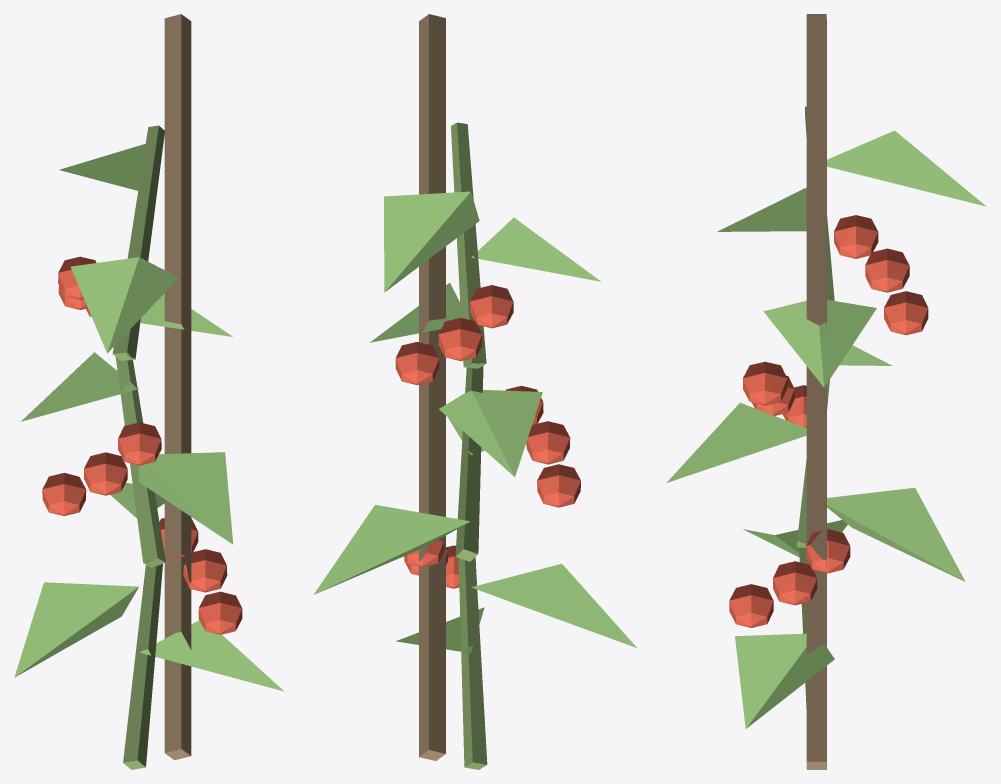
The model's file is field_tomato.glb.
3 views of the same model, side by side, from view 1: azimuth 30°, elevation 25°; view 2: azimuth 150°, elevation 25°; view 3: azimuth 270°, elevation 25° (orthographic).
Visible parts, largest first — view 1: Stake, Leaf#2, Leaf#7, Leaf#4, Stem, Leaf, Stem#3, Stem#2, Leaf#5, Leaf#8, Fruit#3, Fruit#4 (+6 smaller); view 2: Stake, Leaf#8, Leaf#3, Leaf#5, Leaf#2, Stem, Stem#3, Leaf#7, Stem#2, Fruit#9, Fruit#8, Fruit#6 (+5 smaller); view 3: Stake, Leaf#3, Leaf, Leaf#6, Leaf#8, Leaf#4, Leaf#7, Fruit#9, Fruit#8, Fruit#2, Fruit#7, Fruit#4 (+7 smaller).
Boxes of the visible parts, left/top/right/bottom form: Stake: left=164, top=14, right=191, bottom=760; Leaf#2: left=14, top=582, right=138, bottom=677; Leaf#7: left=71, top=257, right=178, bottom=353; Leaf#4: left=138, top=452, right=233, bottom=544; Stem: left=123, top=559, right=162, bottom=769; Leaf: left=139, top=620, right=284, bottom=691; Stem#3: left=112, top=125, right=164, bottom=360; Stem#2: left=115, top=353, right=165, bottom=567; Leaf#5: left=21, top=352, right=138, bottom=421; Leaf#8: left=59, top=144, right=145, bottom=190; Fruit#3: left=198, top=591, right=242, bottom=634; Fruit#4: left=118, top=422, right=161, bottom=465; Stake: left=419, top=14, right=445, bottom=760; Leaf#8: left=384, top=191, right=479, bottom=292; Leaf#3: left=313, top=505, right=470, bottom=594; Leaf#5: left=439, top=390, right=542, bottom=476; Leaf#2: left=471, top=563, right=636, bottom=647; Stem: left=458, top=557, right=487, bottom=769; Stem#3: left=451, top=122, right=486, bottom=368; Leaf#7: left=471, top=217, right=601, bottom=281; Stem#2: left=455, top=361, right=483, bottom=561; Fruit#9: left=395, top=342, right=439, bottom=385; Fruit#8: left=438, top=317, right=482, bottom=361; Fruit#6: left=537, top=464, right=580, bottom=507; Stake: left=806, top=14, right=826, bottom=769; Leaf#3: left=827, top=487, right=965, bottom=581; Leaf: left=735, top=633, right=834, bottom=728; Leaf#6: left=763, top=300, right=876, bottom=387; Leaf#8: left=827, top=130, right=986, bottom=206; Leaf#4: left=666, top=402, right=806, bottom=482; Leaf#7: left=717, top=187, right=806, bottom=231; Fruit#9: left=884, top=291, right=928, bottom=335; Fruit#8: left=865, top=248, right=909, bottom=292; Fruit#2: left=773, top=561, right=817, bottom=605; Fruit#7: left=834, top=215, right=878, bottom=258; Fruit#4: left=743, top=361, right=787, bottom=405.
Size of the model in its own units: 0.529 by 1.45 by 0.564.
